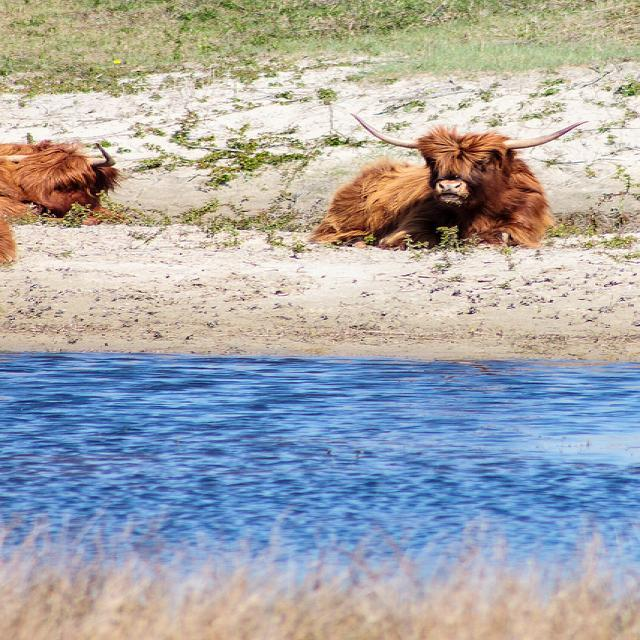cow: (304, 103, 592, 254), (0, 141, 130, 265)
